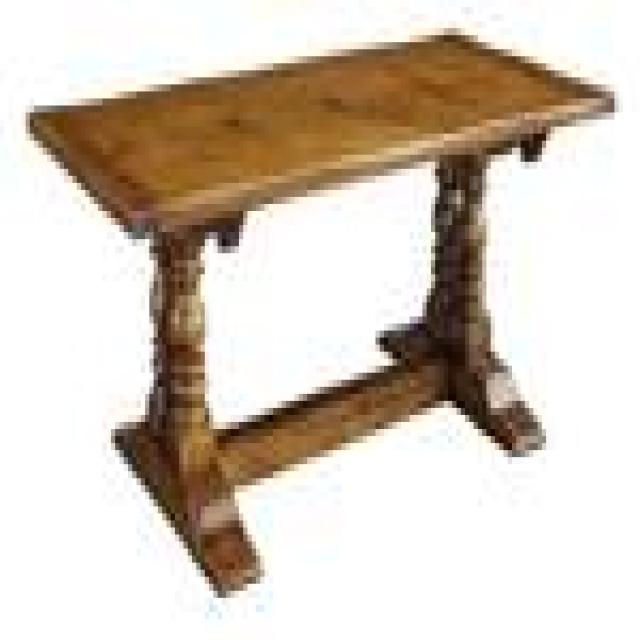table: (26, 28, 618, 597)
